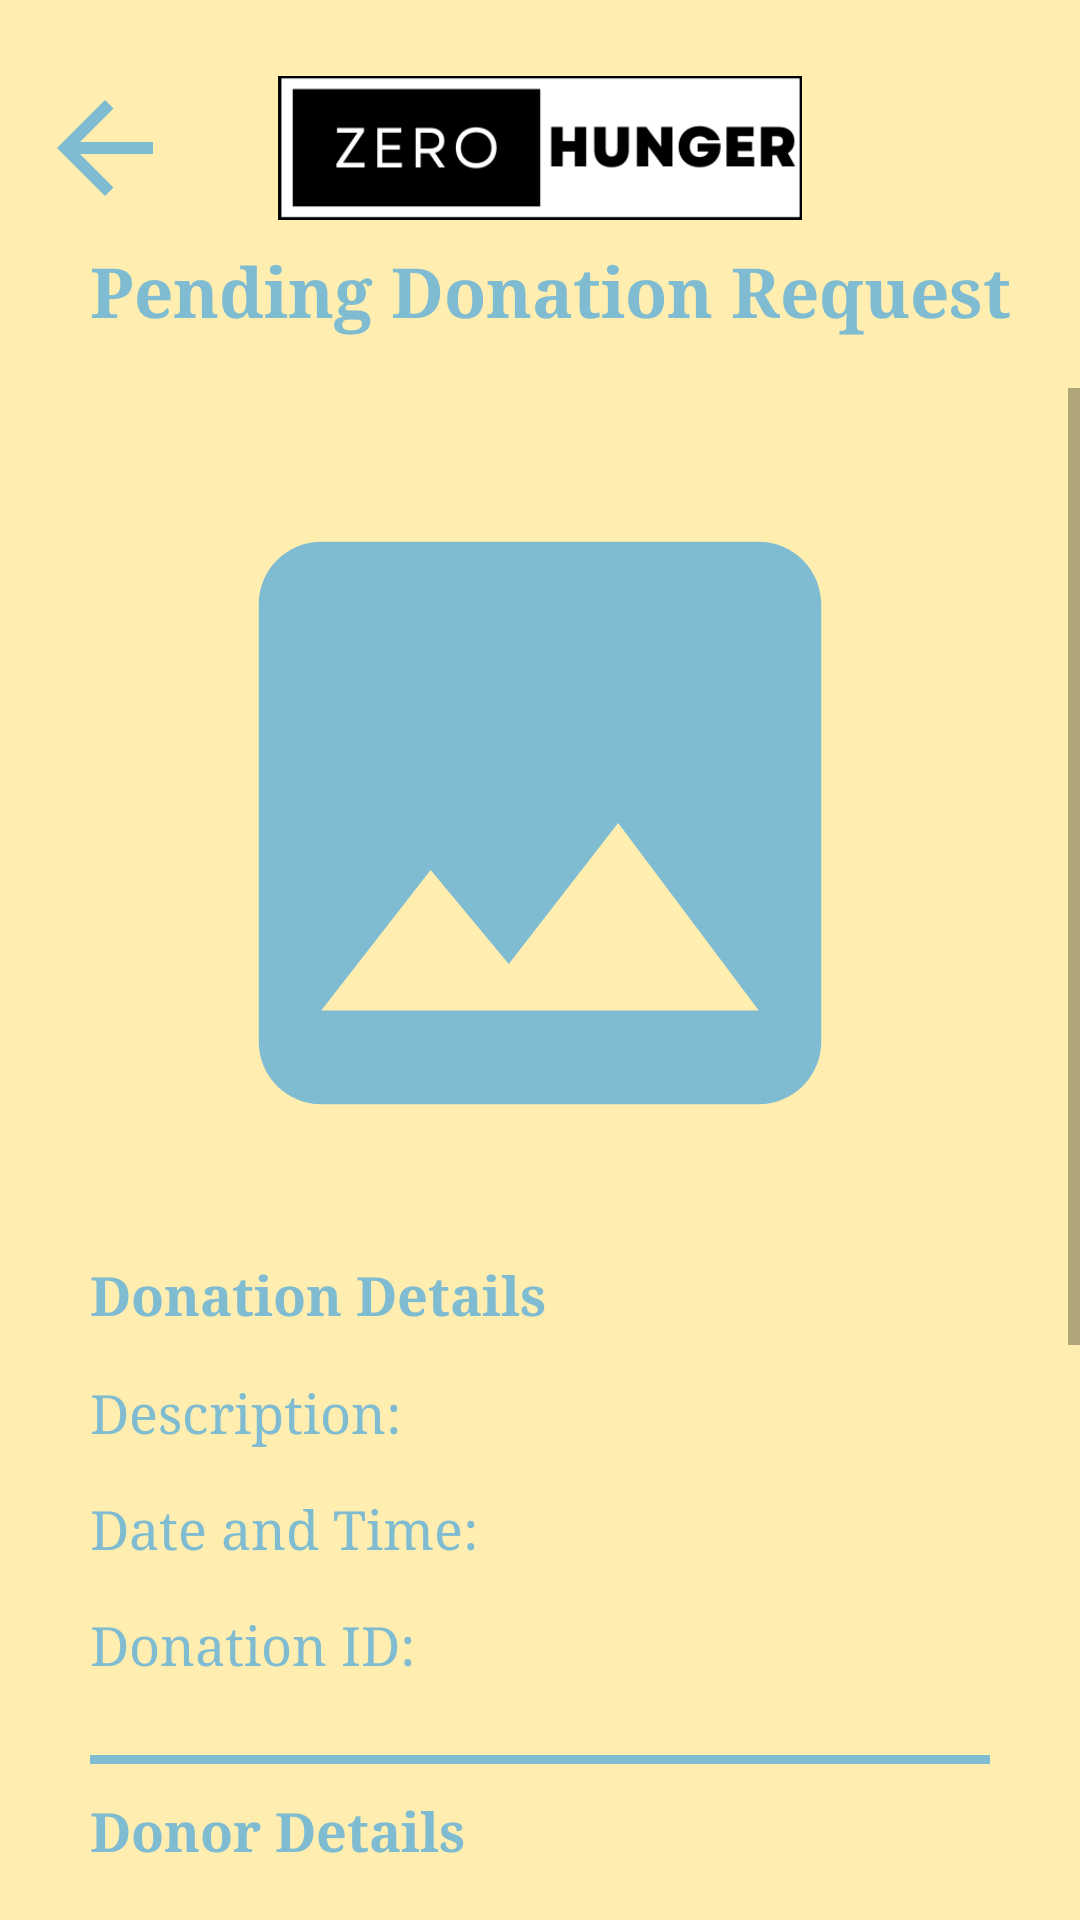

Locate icon controls on the screen. Image size 1080x1920, boxes as [left=x1, top=y1, right=x2, bottom=y2].
back: [left=57, top=100, right=153, bottom=196]
